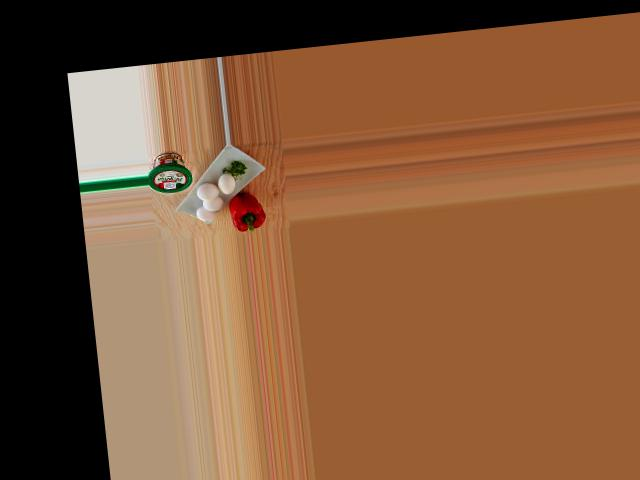bell_pepper: (221, 191, 269, 232)
